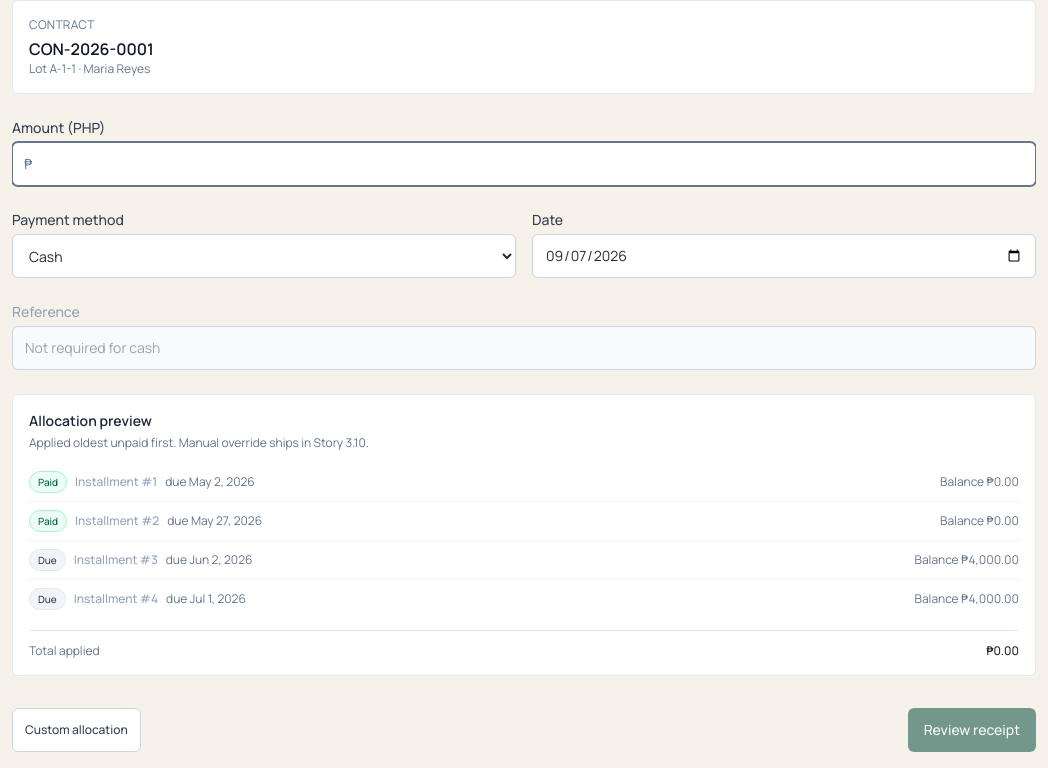
PaymentForm — rendering › disables Reference when method is cash, enables when method is check
Expected: the field with test id "payment-reference" is disabled, [12,326,1036,370]
Select "Cheque" in the dropdown with test id "payment-method" at (264, 256), box [12,234,516,278]
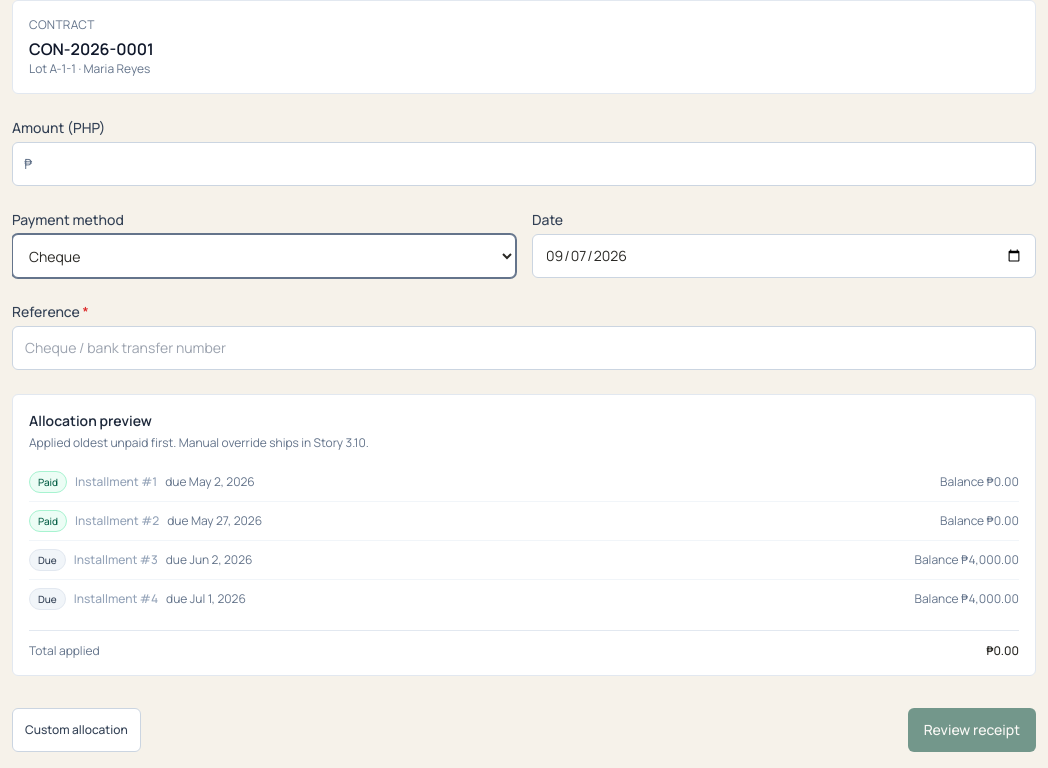
Expected: the field with test id "payment-reference" is enabled, [12,326,1036,370]
